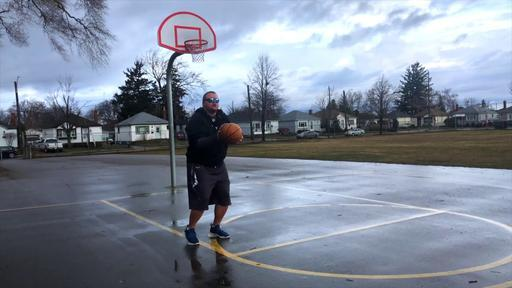ball: (220, 122, 242, 142)
human: (184, 91, 244, 245)
rim: (184, 38, 208, 63)
